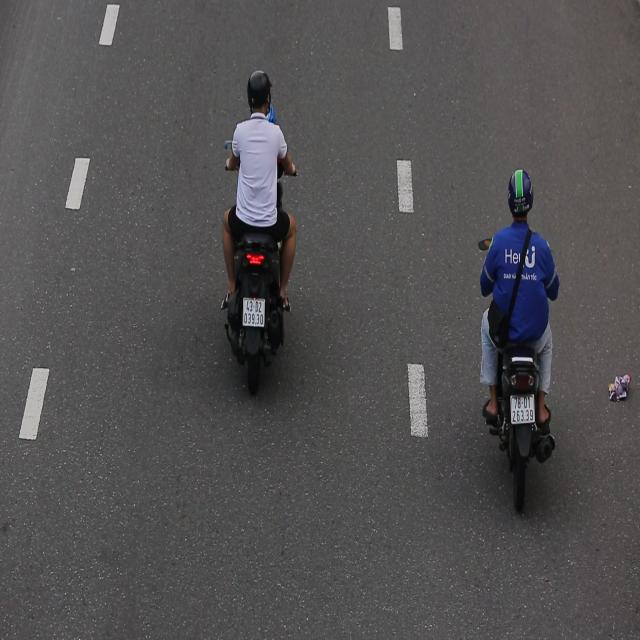motorbike: (472, 157, 565, 515), (221, 63, 306, 404)
